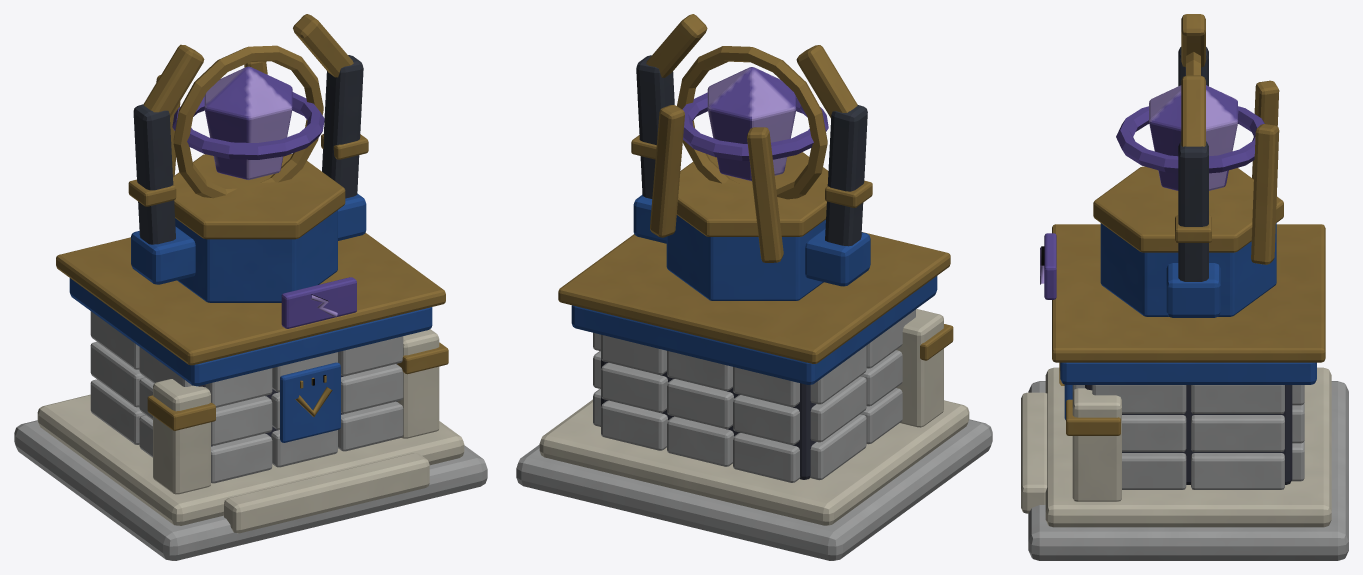
The model's file is electric_tower_medium.glb.
3 views of the same model, side by side, from view 1: azimuth 30°, elevation 25°; view 2: azimuth 150°, elevation 25°; view 3: azimuth 270°, elevation 25° (orthographic).
Parts seen in each view (by area): view 1: electric_tower_medium_surface; view 2: electric_tower_medium_surface; view 3: electric_tower_medium_surface.
Part boxes in pixels (x1,y1,x2,y2): electric_tower_medium_surface: (14, 14, 487, 560); electric_tower_medium_surface: (516, 14, 992, 560); electric_tower_medium_surface: (1021, 14, 1348, 560).
Size of the model in its own units: 1.53 by 1.97 by 1.33.
Materials: 1 (1 with a texture image).
